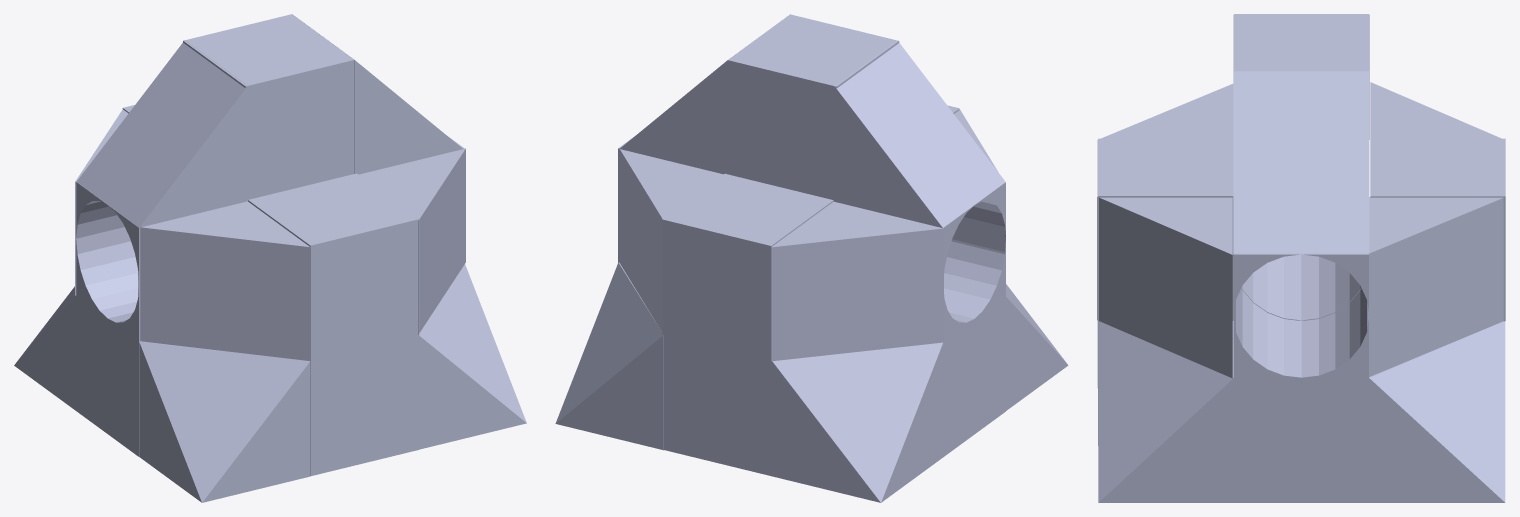
The picture shows the model from 3 angles, left to right: view 1: azimuth 30°, elevation 25°; view 2: azimuth 150°, elevation 25°; view 3: azimuth 270°, elevation 25°; orthographic projection. The views are drawn at different scales.
Parts seen in each view (by area): view 1: modelo004 (1); view 2: modelo004 (1); view 3: modelo004 (1).
Boxes of the visible parts, bbox=[...] form: modelo004 (1): bbox=[14, 14, 526, 502]; modelo004 (1): bbox=[555, 14, 1068, 502]; modelo004 (1): bbox=[1097, 14, 1505, 502].
Bounding box in the file's own units: 0.1019 × 0.1025 × 0.1016.
